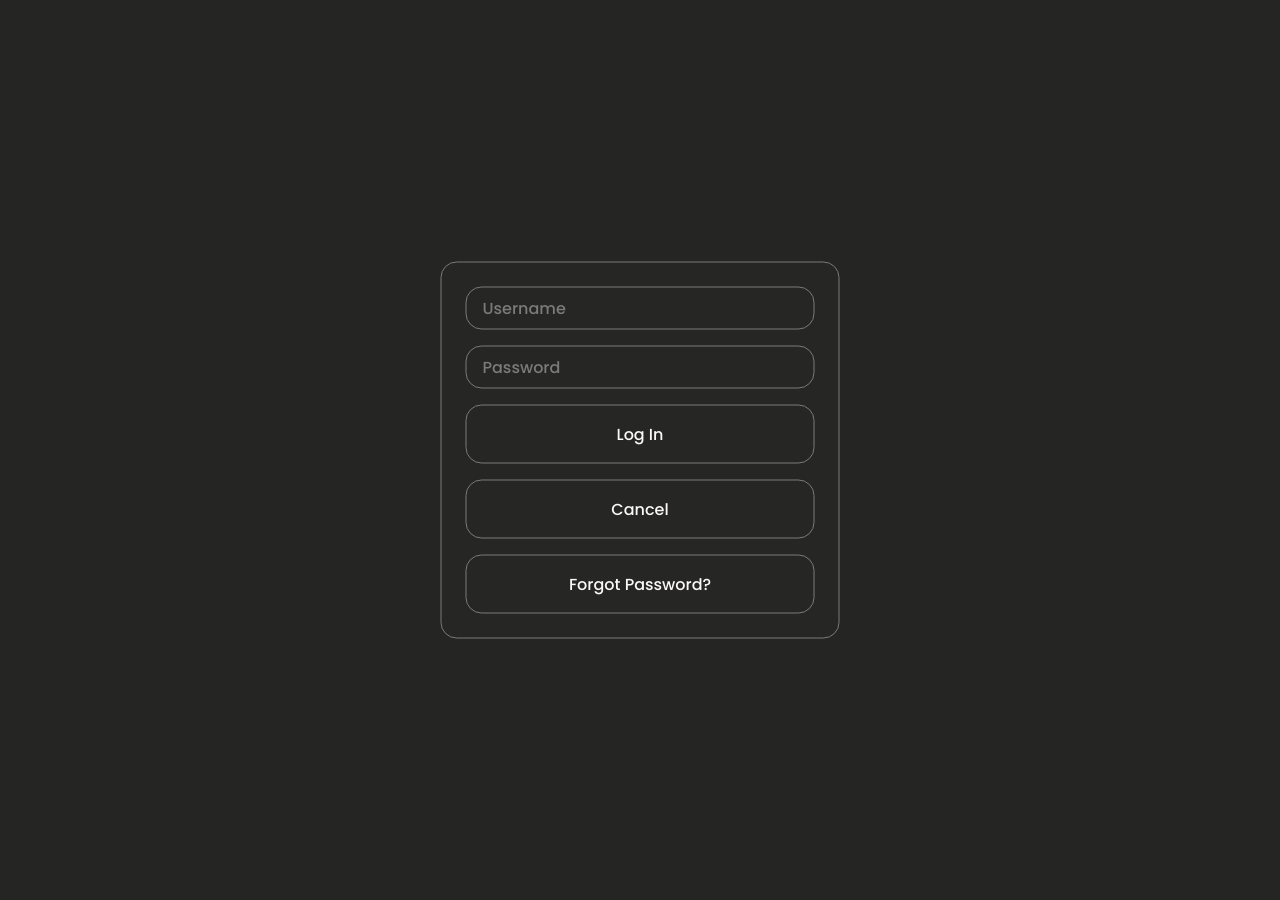
Test case: Login component › Failed login › should handle server errors gracefully
Type "test@example.com" into the field with placeholder "Username" at (640, 308), box [466,286,814,330]
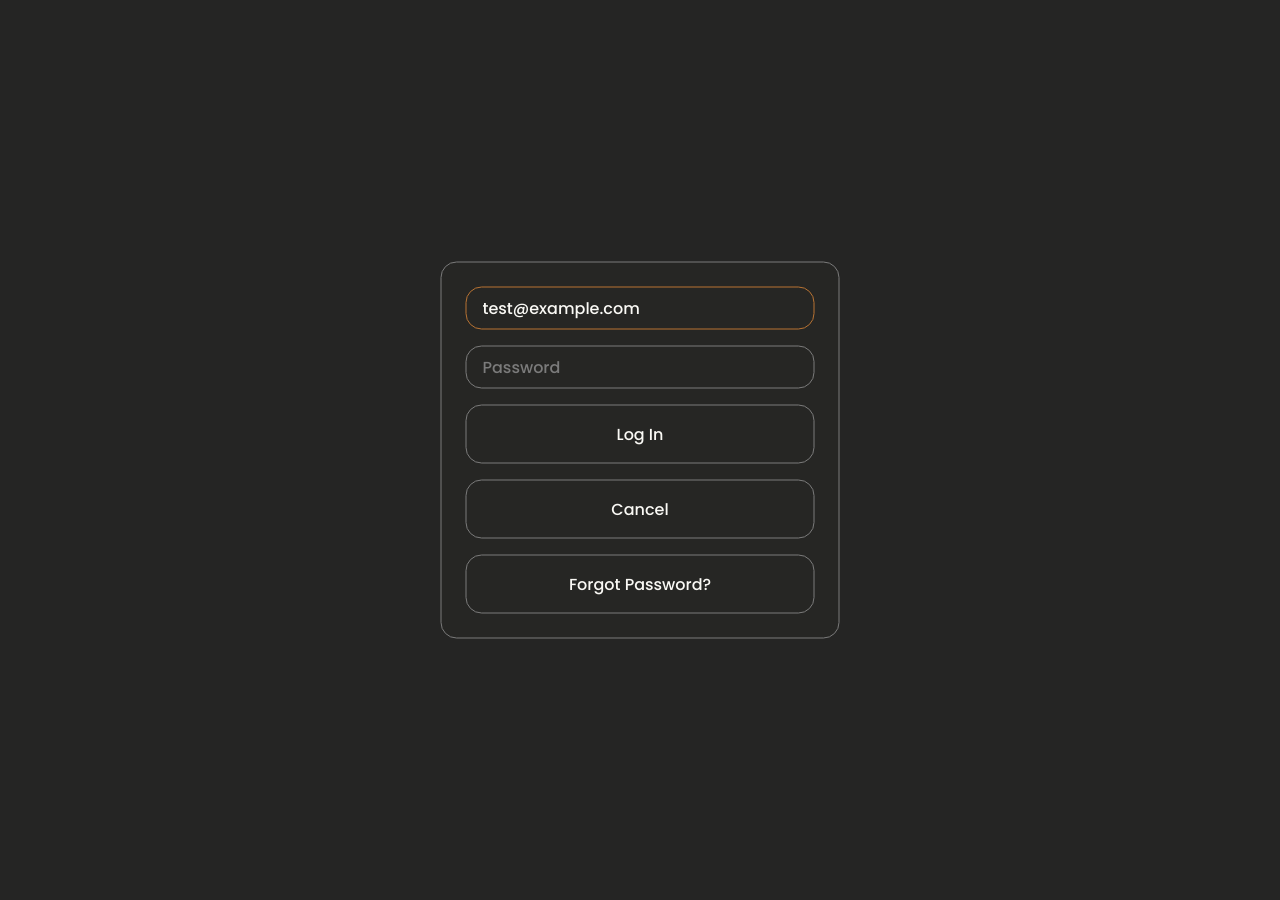
Type "password123" into the password field with placeholder "Password" at (640, 367), box [466,346,814,388]
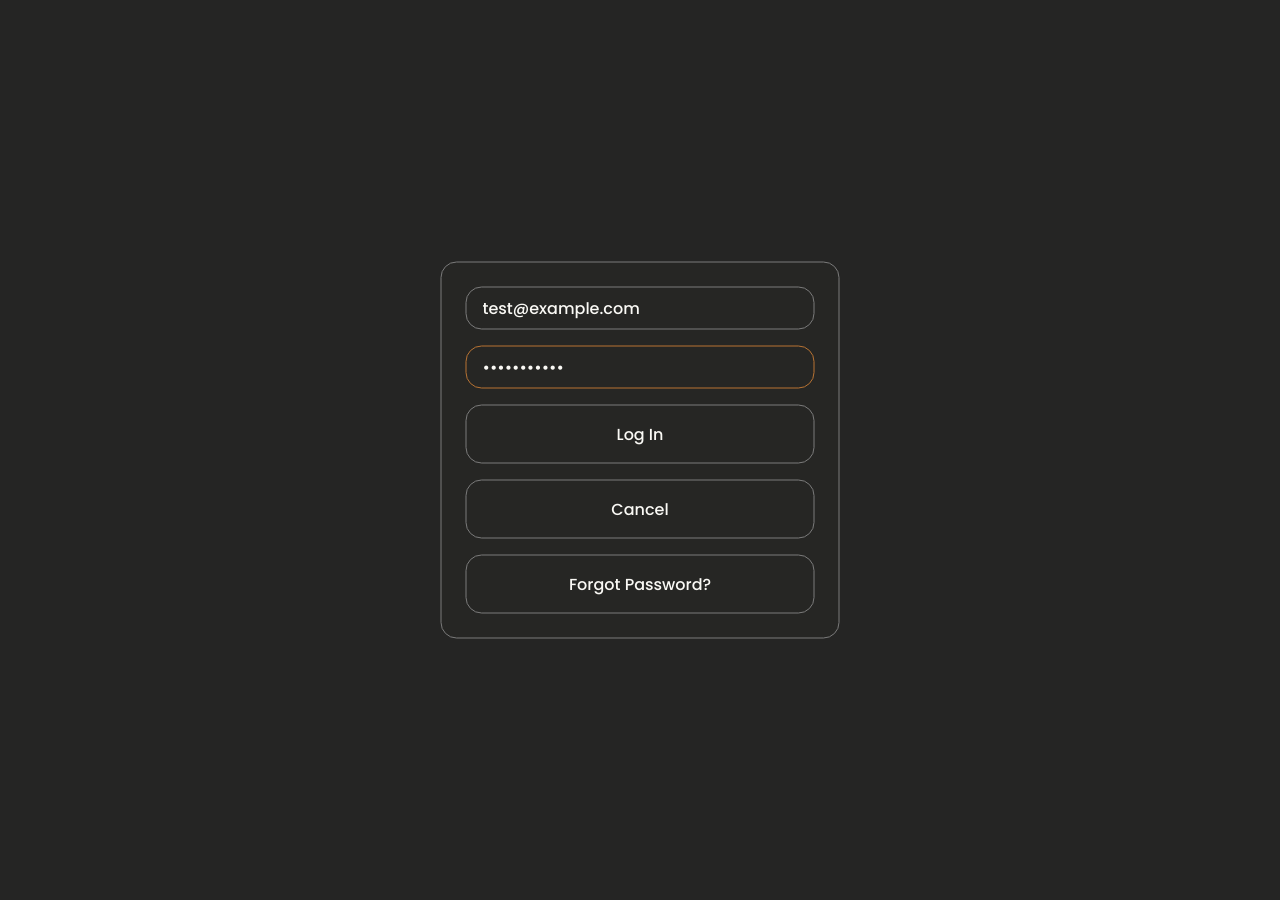
Click the button "Log In" at (640, 434), box [466,404,814,464]
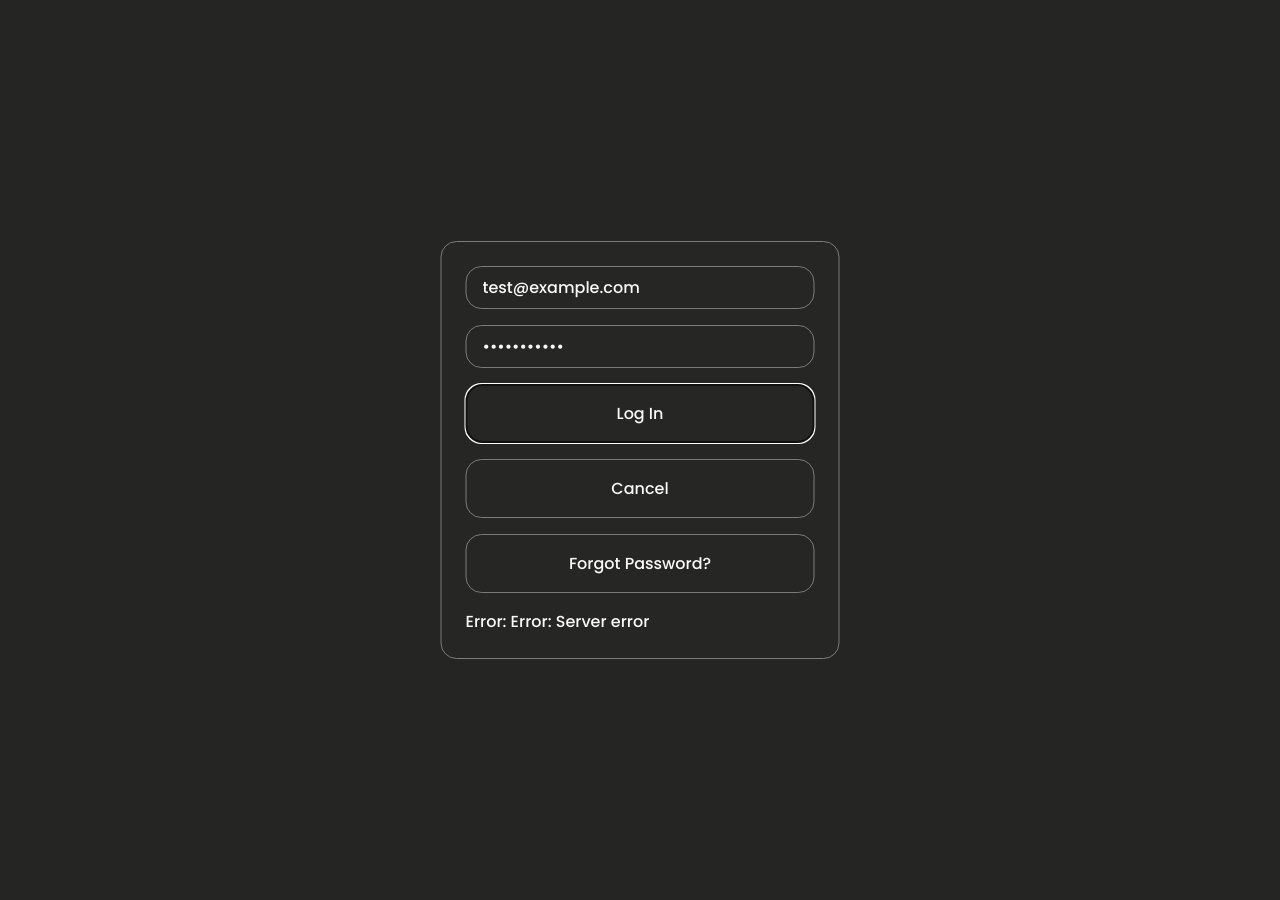
Expected: the text "Error: Error: Server error" is shown, [466,610,649,633]
